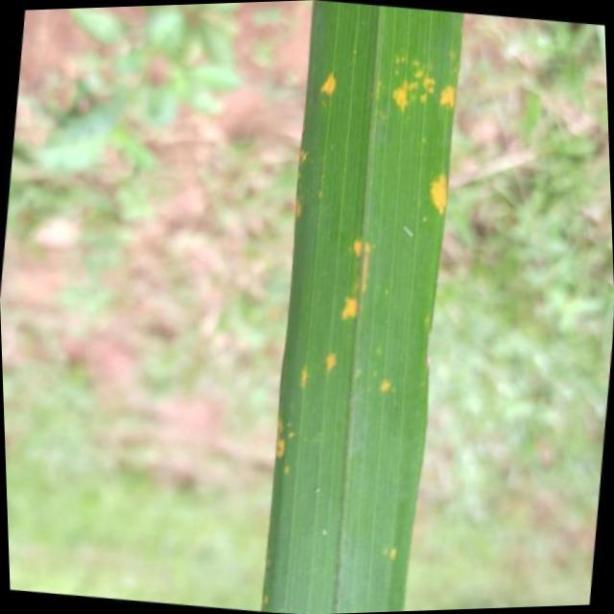Kalium: (265, 0, 464, 614)
